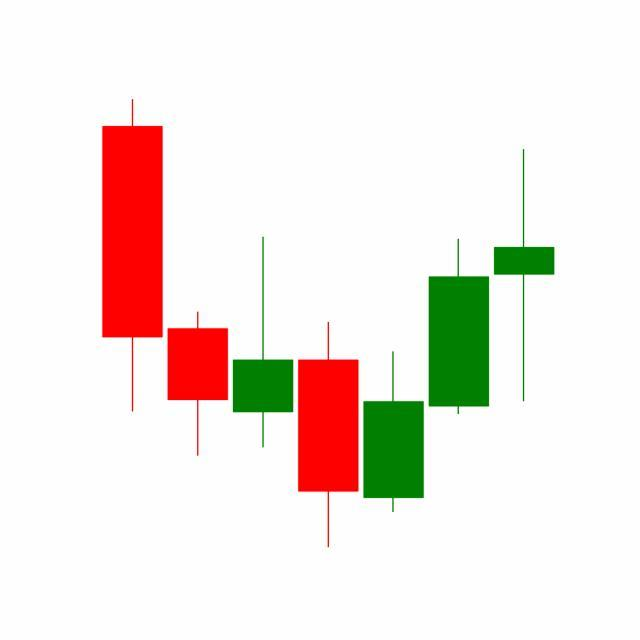Hikkake Pattern: (165, 233, 492, 548)
